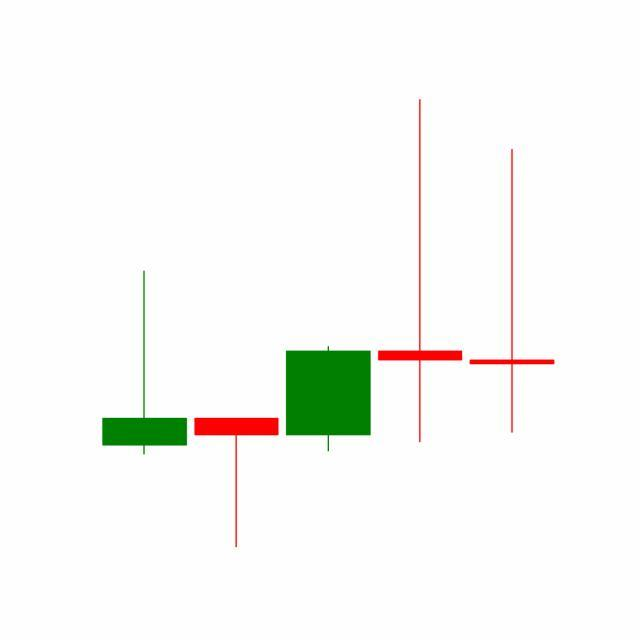Spinning Top: (466, 147, 559, 437)
